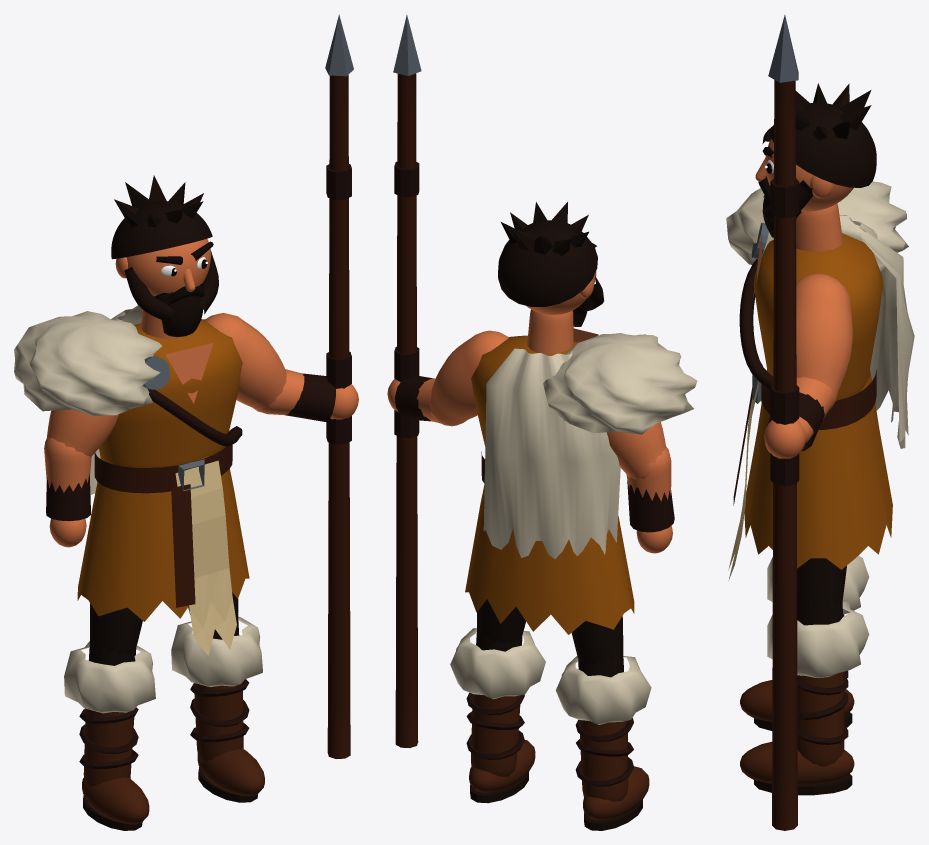
Rendered from beastmaster.glb.
3 views of the same model, side by side, from view 1: azimuth 30°, elevation 25°; view 2: azimuth 150°, elevation 25°; view 3: azimuth 270°, elevation 25° (orthographic). The views are drawn at different scales.
Parts seen in each view (by area): view 1: hips_tunic, armR_lower_staff, armL_upper_fur, tunic, hips_sash, shin_-1_fur, shin_1_fur, armR_upper, head_hair_cap, belt, shin_-1_boot, shin_1_boot (+21 smaller); view 2: cloak, hips_tunic, armR_lower_staff, armL_upper_fur, head_hair_cap, shin_1_fur, shin_-1_fur, armR_upper, shin_-1_boot, shin_1_boot, armL_upper, neck (+15 smaller); view 3: armR_lower_staff, hips_tunic, tunic, armR_upper, cloak, armL_upper_fur, head_hair_cap, shin_1_fur, shin_1_boot, shin_1_foot, thigh_1, neck (+21 smaller).
Part boxes in pixels (x1,y1,x2,y2): hips_tunic: (77, 456, 249, 621); armR_lower_staff: (327, 75, 350, 758); armL_upper_fur: (14, 311, 162, 415); tunic: (99, 319, 242, 467); hips_sash: (175, 460, 236, 655); shin_-1_fur: (64, 641, 155, 713); shin_1_fur: (171, 616, 262, 686); armR_upper: (205, 313, 286, 414); head_hair_cap: (111, 201, 212, 259); belt: (94, 444, 232, 493); shin_-1_boot: (83, 709, 134, 787); shin_1_boot: (194, 682, 243, 762); cloak: (483, 348, 620, 558); hips_tunic: (465, 484, 634, 634); armR_lower_staff: (395, 73, 418, 748); armL_upper_fur: (543, 333, 697, 434); head_hair_cap: (498, 220, 597, 306); shin_1_fur: (450, 628, 545, 699); shin_-1_fur: (555, 656, 651, 724); armR_upper: (429, 330, 508, 426); shin_-1_boot: (579, 720, 628, 801); shin_1_boot: (471, 694, 520, 776); armL_upper: (607, 422, 665, 479); neck: (527, 309, 573, 354); armR_lower_staff: (772, 80, 797, 830); hips_tunic: (744, 370, 892, 569); tunic: (753, 233, 883, 400); armR_upper: (796, 273, 852, 408); cloak: (840, 215, 914, 448); armL_upper_fur: (726, 181, 908, 271); head_hair_cap: (770, 102, 876, 187); shin_1_fur: (767, 601, 869, 677); shin_1_boot: (797, 671, 844, 766); shin_1_foot: (740, 741, 854, 784); thigh_1: (797, 558, 846, 610); neck: (796, 203, 842, 251).
Bounding box in the file's own units: 2.62 × 5.98 × 1.24.
